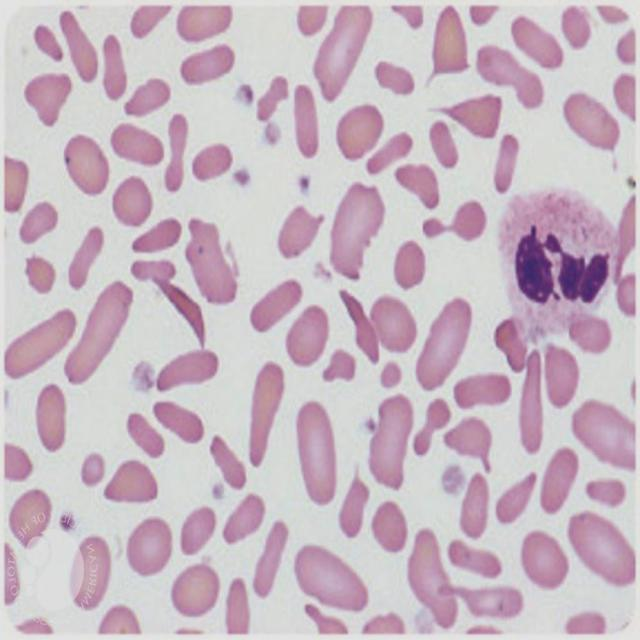sickle cell: (142, 279, 221, 353), (335, 284, 386, 364)
